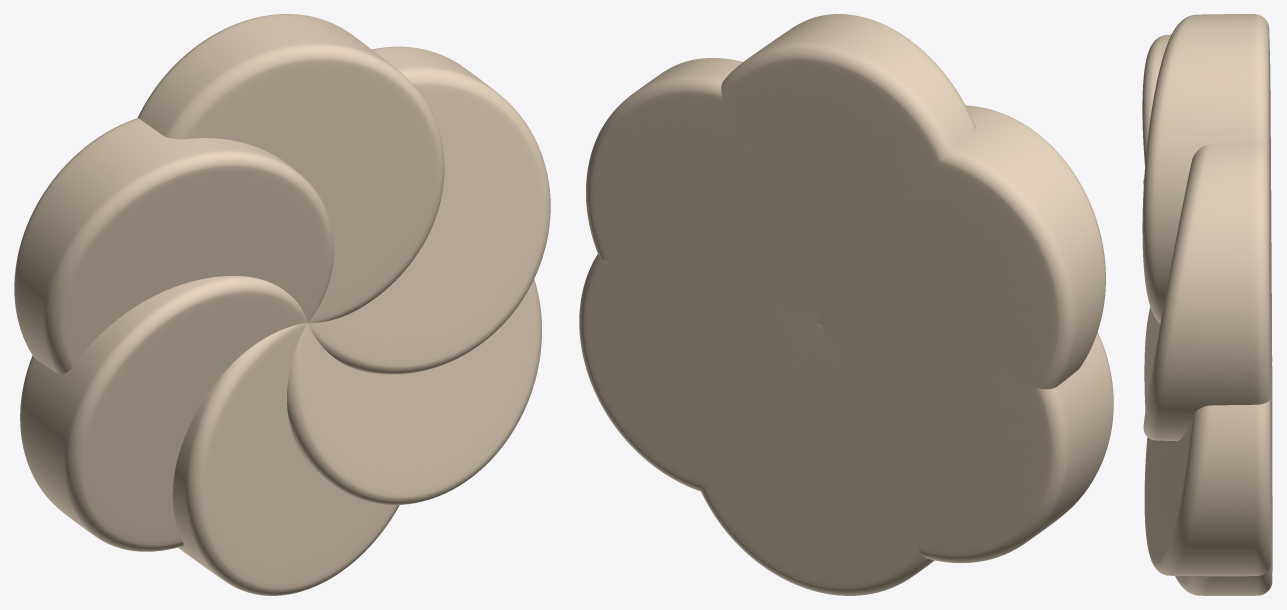
3 renders of one model, left to right at view 1: azimuth 30°, elevation 25°; view 2: azimuth 150°, elevation 25°; view 3: azimuth 270°, elevation 25°, orthographic.
Parts seen in each view (by area): view 1: Circle; view 2: Circle; view 3: Circle.
Boxes of the visible parts, <box> form: Circle: <box>14,14,550,595</box>; Circle: <box>579,14,1113,595</box>; Circle: <box>1142,14,1272,595</box>.
Bounding box in the file's own units: 2.78 × 2.93 × 0.6328.
